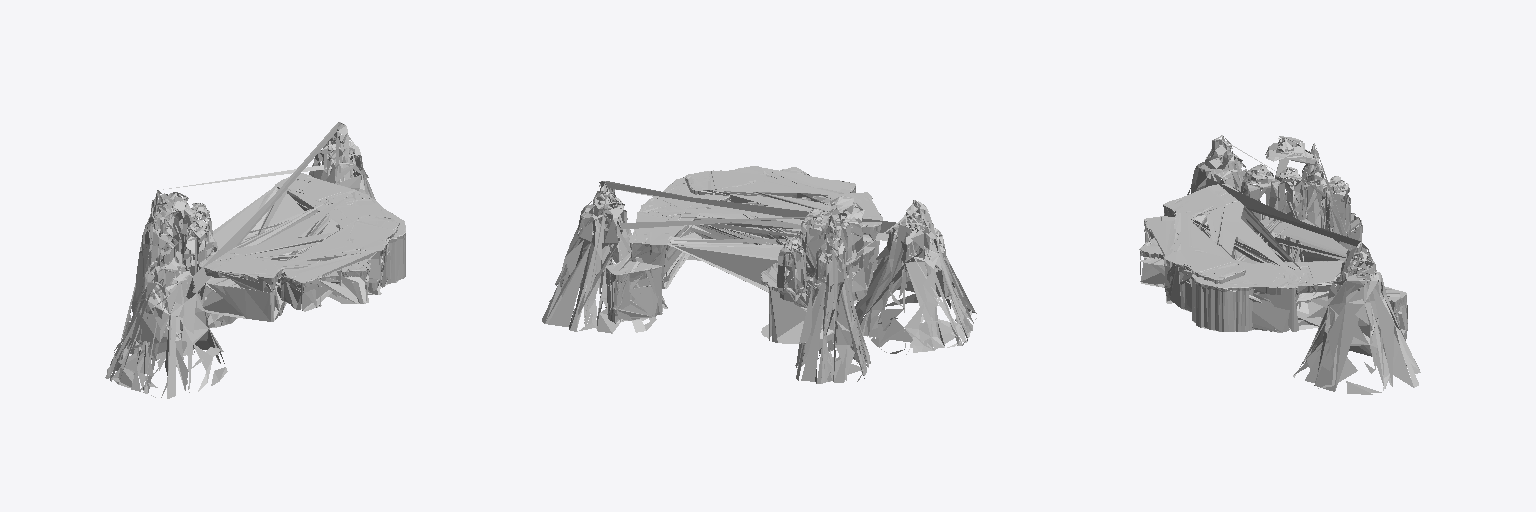
File: cellReef_SandTrap_Proxy-sharedassets3.assets-639.obj
3 views of the same model, side by side, from view 1: azimuth 30°, elevation 25°; view 2: azimuth 150°, elevation 25°; view 3: azimuth 270°, elevation 25° (orthographic).
Visible parts, largest first — view 1: cellReef_SandTrap_Proxy_2, cellReef_SandTrap_Proxy_3, cellReef_SandTrap_Proxy_1, cellReef_SandTrap_Proxy_0; view 2: cellReef_SandTrap_Proxy_2, cellReef_SandTrap_Proxy_3, cellReef_SandTrap_Proxy_1, cellReef_SandTrap_Proxy_0; view 3: cellReef_SandTrap_Proxy_2, cellReef_SandTrap_Proxy_3, cellReef_SandTrap_Proxy_1, cellReef_SandTrap_Proxy_0.
Boxes of the visible parts, x1,y1,x2,y2 form: cellReef_SandTrap_Proxy_2: [105, 122, 405, 398]; cellReef_SandTrap_Proxy_3: [177, 174, 405, 327]; cellReef_SandTrap_Proxy_1: [176, 173, 405, 327]; cellReef_SandTrap_Proxy_0: [340, 212, 405, 283]; cellReef_SandTrap_Proxy_2: [542, 166, 976, 383]; cellReef_SandTrap_Proxy_3: [609, 166, 882, 343]; cellReef_SandTrap_Proxy_1: [606, 177, 882, 323]; cellReef_SandTrap_Proxy_0: [606, 178, 729, 323]; cellReef_SandTrap_Proxy_2: [1140, 135, 1420, 394]; cellReef_SandTrap_Proxy_3: [1139, 184, 1404, 331]; cellReef_SandTrap_Proxy_1: [1163, 184, 1407, 339]; cellReef_SandTrap_Proxy_0: [1192, 260, 1407, 334].
Bounding box in the file's own units: 186 × 83.01 × 131.